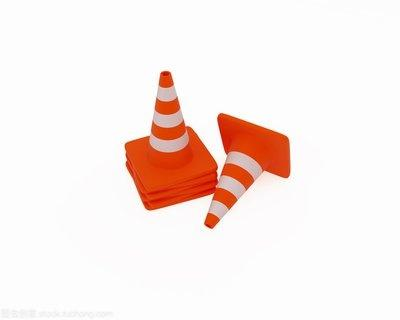cone_barrel: (198, 134, 275, 231), (140, 72, 199, 174)
